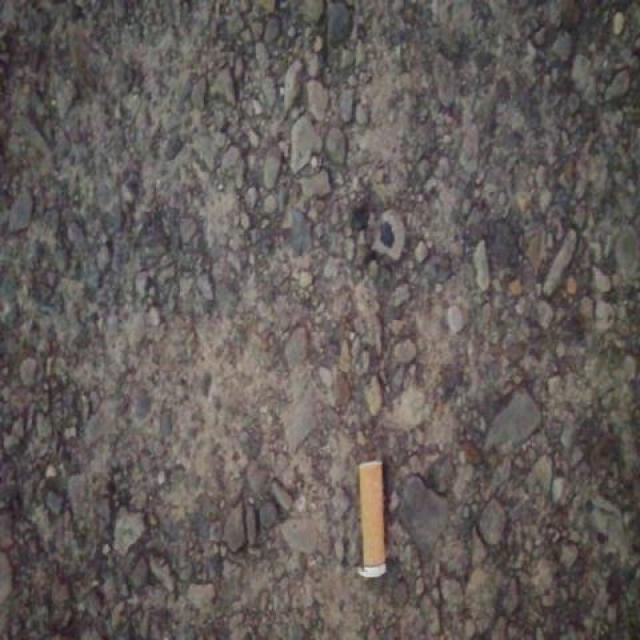non-organic waste: (354, 457, 390, 582)
